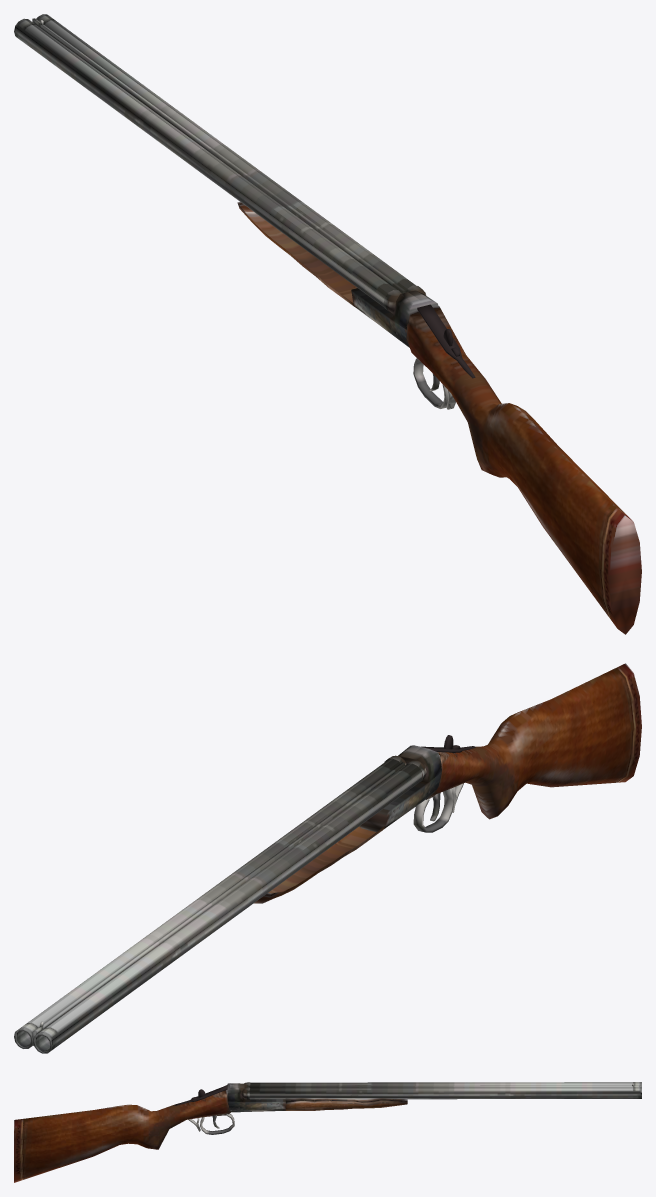
Rendered from dbshotgun_world.fbx.
3 renders of one model, top to bottom at view 1: azimuth 30°, elevation 25°; view 2: azimuth 150°, elevation 25°; view 3: azimuth 270°, elevation 25°, orthographic. The views are drawn at different scales.
Parts seen in each view (by area): view 1: dbshotgun; view 2: dbshotgun; view 3: dbshotgun.
Boxes of the visible parts, x1,y1,x2,y2 form: dbshotgun: (14, 14, 641, 634); dbshotgun: (14, 663, 641, 1053); dbshotgun: (14, 1082, 641, 1182).
Bounding box in the file's own units: 3.19 × 14.31 × 82.2.
Materials: 1 (1 with a texture image).
